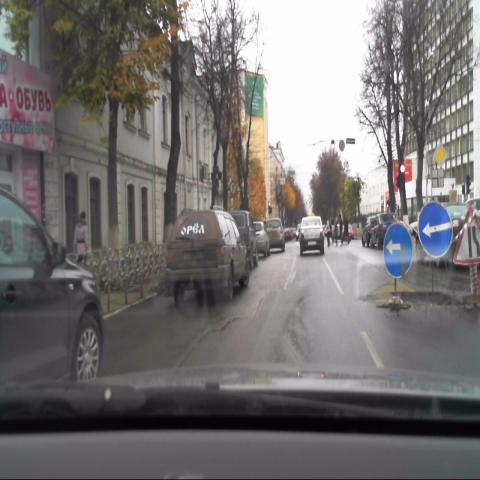1_20_2: (454, 205, 480, 268)
4_1_2_2: (416, 200, 452, 259), (382, 219, 413, 280)
